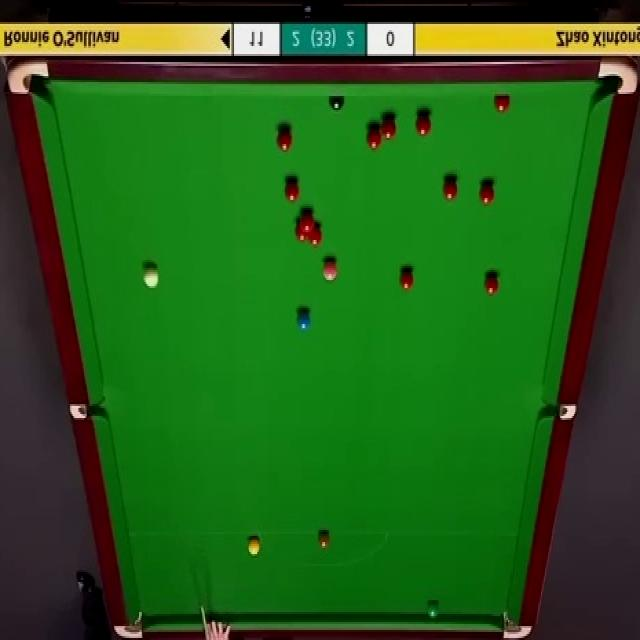blue-ball: (296, 311, 312, 332)
brown-ball: (318, 532, 330, 552)
green-ball: (426, 600, 439, 618)
pink-ball: (322, 256, 339, 281)
red-ball: (442, 176, 460, 202), (276, 126, 294, 152), (381, 114, 397, 143), (398, 267, 415, 294), (415, 110, 432, 136), (281, 179, 301, 201), (366, 124, 382, 150), (479, 182, 496, 206), (484, 271, 498, 296), (294, 218, 308, 242), (309, 222, 322, 246), (493, 97, 511, 114), (300, 210, 316, 229)
white-ball: (142, 264, 160, 290)
yellow-ball: (247, 538, 259, 554)
